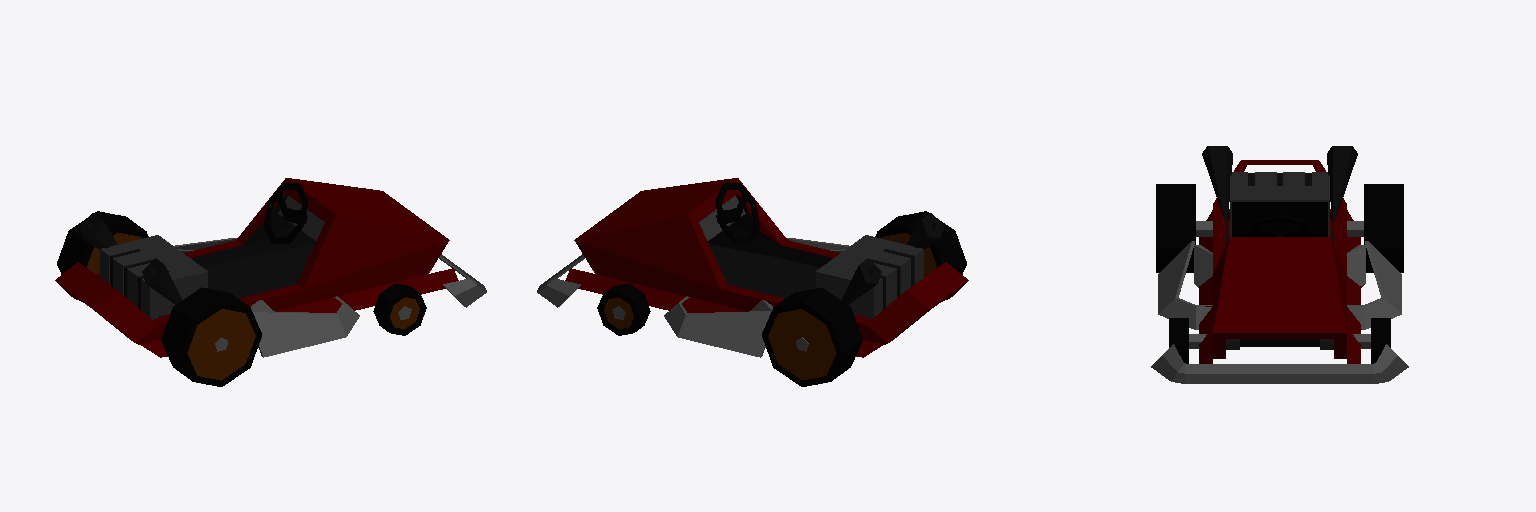
File: Kart.obj
3 renders of one model, left to right at view 1: azimuth 30°, elevation 25°; view 2: azimuth 150°, elevation 25°; view 3: azimuth 270°, elevation 25°, orthographic.
Parts seen in each view (by area): view 1: instance_2_ID165; view 2: instance_2_ID165; view 3: instance_2_ID165.
Boxes of the visible parts, box(x1,y1,x2,y2) form: instance_2_ID165: box(55, 178, 486, 386); instance_2_ID165: box(537, 178, 968, 386); instance_2_ID165: box(1151, 146, 1408, 383).
Size of the model in its own units: 4.5 by 1.48 by 2.78.